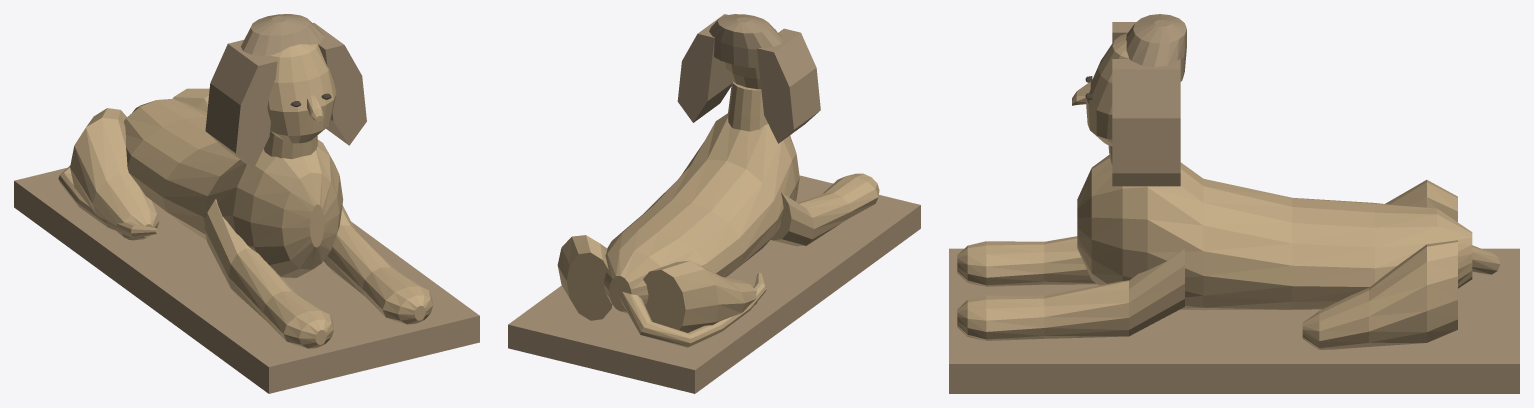
3 views of the same model, side by side, from view 1: azimuth 30°, elevation 25°; view 2: azimuth 150°, elevation 25°; view 3: azimuth 270°, elevation 25° (orthographic). The views are drawn at different scales.
Visible parts, largest first — view 1: WholeLowStonePlinth, WholeLowBackAndRaisedFelineChest, LeftWholeExtendedForelegAndPaw, LeftWholeFoldedHindHaunchAndPaw, LeftWholeSweptHeadclothLappet, RightWholeExtendedForelegAndPaw, WholeHumanFaceAndCranium, RightWholeSweptHeadclothLappet, WholeSweptHeadclothCrown, WholeLowSideCurledFelineTail, WholeUprightHumanNeck, RightWholeFoldedHindHaunchAndPaw; view 2: WholeLowStonePlinth, WholeLowBackAndRaisedFelineChest, LeftWholeFoldedHindHaunchAndPaw, LeftWholeSweptHeadclothLappet, LeftWholeExtendedForelegAndPaw, RightWholeFoldedHindHaunchAndPaw, RightWholeSweptHeadclothLappet, WholeSweptHeadclothCrown, WholeLowSideCurledFelineTail, WholeUprightHumanNeck, WholeHumanFaceAndCranium; view 3: WholeLowStonePlinth, WholeLowBackAndRaisedFelineChest, RightWholeExtendedForelegAndPaw, RightWholeFoldedHindHaunchAndPaw, RightWholeSweptHeadclothLappet, LeftWholeExtendedForelegAndPaw, WholeSweptHeadclothCrown, WholeHumanFaceAndCranium, LeftWholeFoldedHindHaunchAndPaw, WholeLowSideCurledFelineTail.
Part boxes in pixels (x1,y1,x2,y2): WholeLowStonePlinth: [14, 167, 479, 393]; WholeLowBackAndRaisedFelineChest: [124, 98, 343, 277]; LeftWholeExtendedForelegAndPaw: [204, 199, 333, 348]; LeftWholeFoldedHindHaunchAndPaw: [70, 108, 159, 240]; LeftWholeSweptHeadclothLappet: [205, 40, 277, 168]; RightWholeExtendedForelegAndPaw: [323, 205, 433, 324]; WholeHumanFaceAndCranium: [267, 44, 336, 143]; RightWholeSweptHeadclothLappet: [313, 23, 366, 145]; WholeSweptHeadclothCrown: [241, 14, 324, 55]; WholeLowSideCurledFelineTail: [58, 165, 158, 238]; WholeUprightHumanNeck: [264, 131, 317, 159]; RightWholeFoldedHindHaunchAndPaw: [173, 88, 209, 111]; WholeLowStonePlinth: [508, 175, 920, 393]; WholeLowBackAndRaisedFelineChest: [603, 113, 799, 313]; LeftWholeFoldedHindHaunchAndPaw: [643, 260, 757, 332]; LeftWholeSweptHeadclothLappet: [757, 28, 820, 143]; LeftWholeExtendedForelegAndPaw: [771, 173, 879, 246]; RightWholeFoldedHindHaunchAndPaw: [557, 235, 612, 320]; RightWholeSweptHeadclothLappet: [677, 14, 731, 122]; WholeSweptHeadclothCrown: [709, 14, 783, 68]; WholeLowSideCurledFelineTail: [619, 273, 766, 347]; WholeUprightHumanNeck: [727, 81, 768, 131]; WholeHumanFaceAndCranium: [724, 28, 776, 89]; WholeLowStonePlinth: [949, 248, 1519, 393]; WholeLowBackAndRaisedFelineChest: [1077, 155, 1472, 310]; RightWholeExtendedForelegAndPaw: [957, 247, 1184, 340]; RightWholeFoldedHindHaunchAndPaw: [1302, 240, 1457, 349]; RightWholeSweptHeadclothLappet: [1112, 59, 1180, 186]; LeftWholeExtendedForelegAndPaw: [957, 236, 1096, 286]; WholeSweptHeadclothCrown: [1126, 14, 1186, 81]; WholeHumanFaceAndCranium: [1086, 33, 1128, 146]; LeftWholeFoldedHindHaunchAndPaw: [1385, 180, 1457, 222]; WholeLowSideCurledFelineTail: [1472, 245, 1499, 274].
Bounding box in the file's own units: 1.32 × 1.67 × 2.76.
